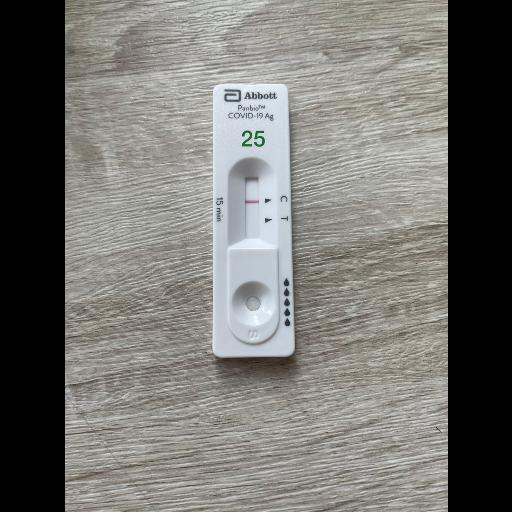Neg: (211, 85, 293, 353)
